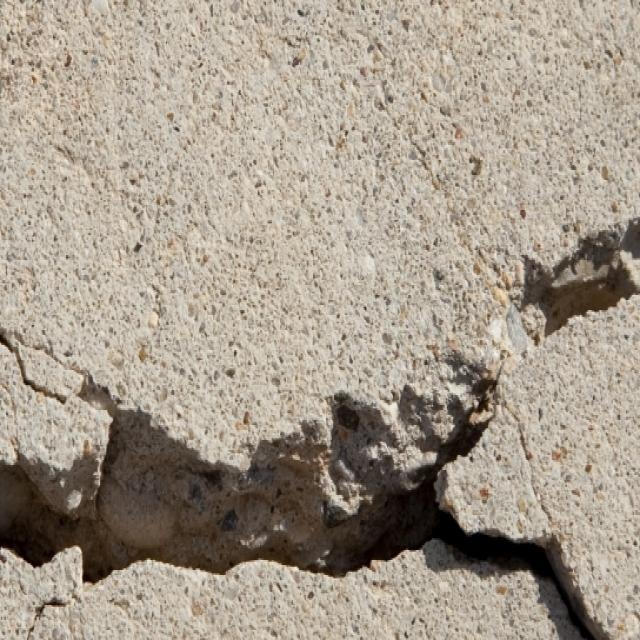Transverse: (6, 216, 640, 640)
